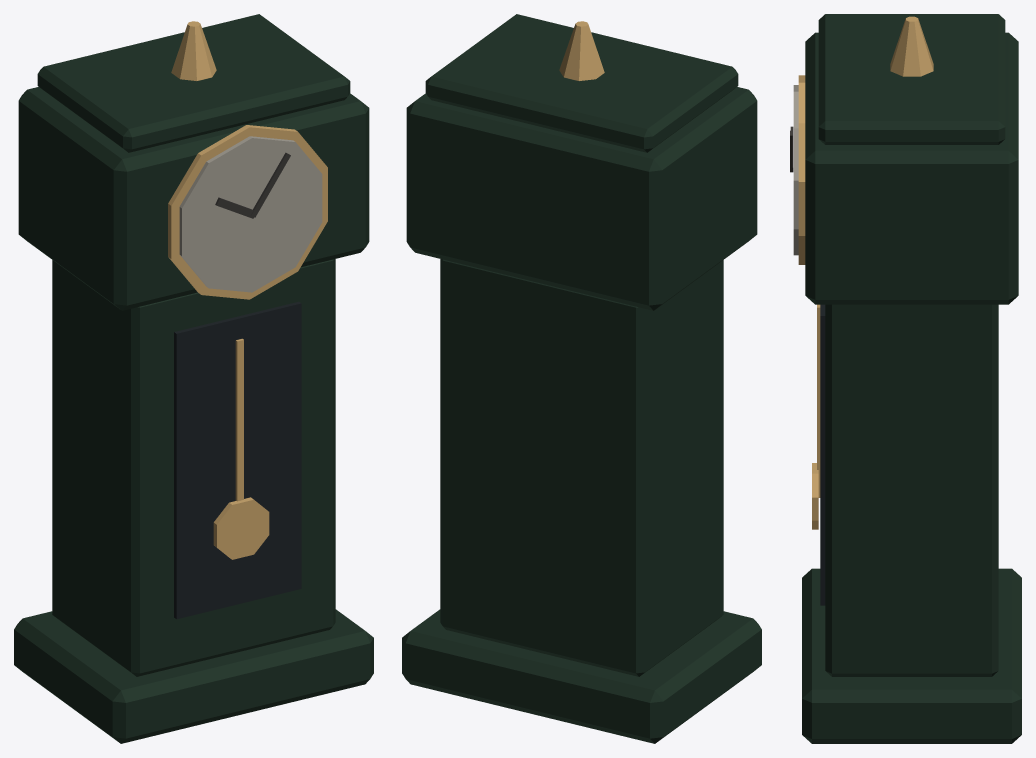
3 views of the same model, side by side, from view 1: azimuth 30°, elevation 25°; view 2: azimuth 150°, elevation 25°; view 3: azimuth 270°, elevation 25° (orthographic).
Visible parts, largest first — view 1: furniture_10_lamp_rare_clock; view 2: furniture_10_lamp_rare_clock; view 3: furniture_10_lamp_rare_clock.
Part boxes in pixels (x1,y1,x2,y2): furniture_10_lamp_rare_clock: (14,14,373,743); furniture_10_lamp_rare_clock: (402,14,761,743); furniture_10_lamp_rare_clock: (790,14,1021,743).
Bounding box in the file's own units: 0.92 × 2.2 × 0.696.
